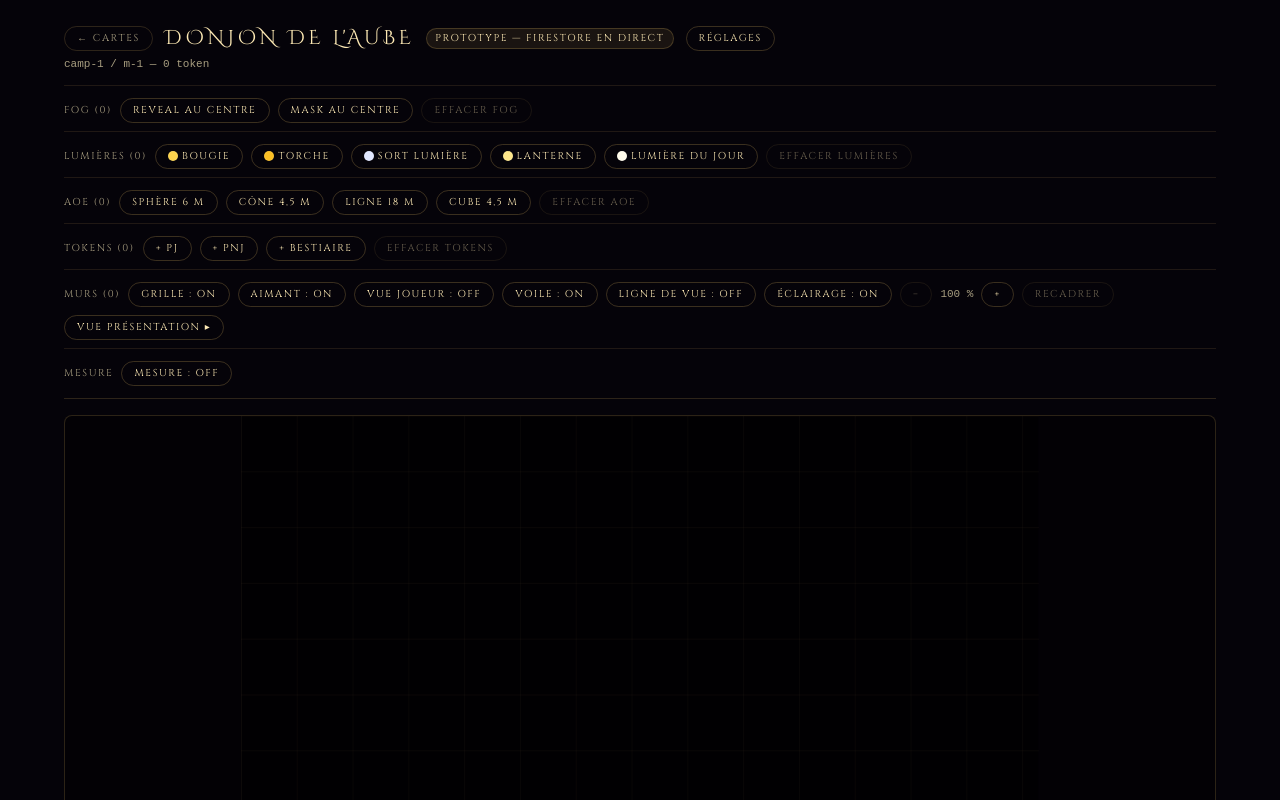
Test: MapLiveScreen › active le mode mesure et révèle le total + le bouton effacer
Click the button with test id "map-live-toggle-measure": (177,373) [121,360,232,386]
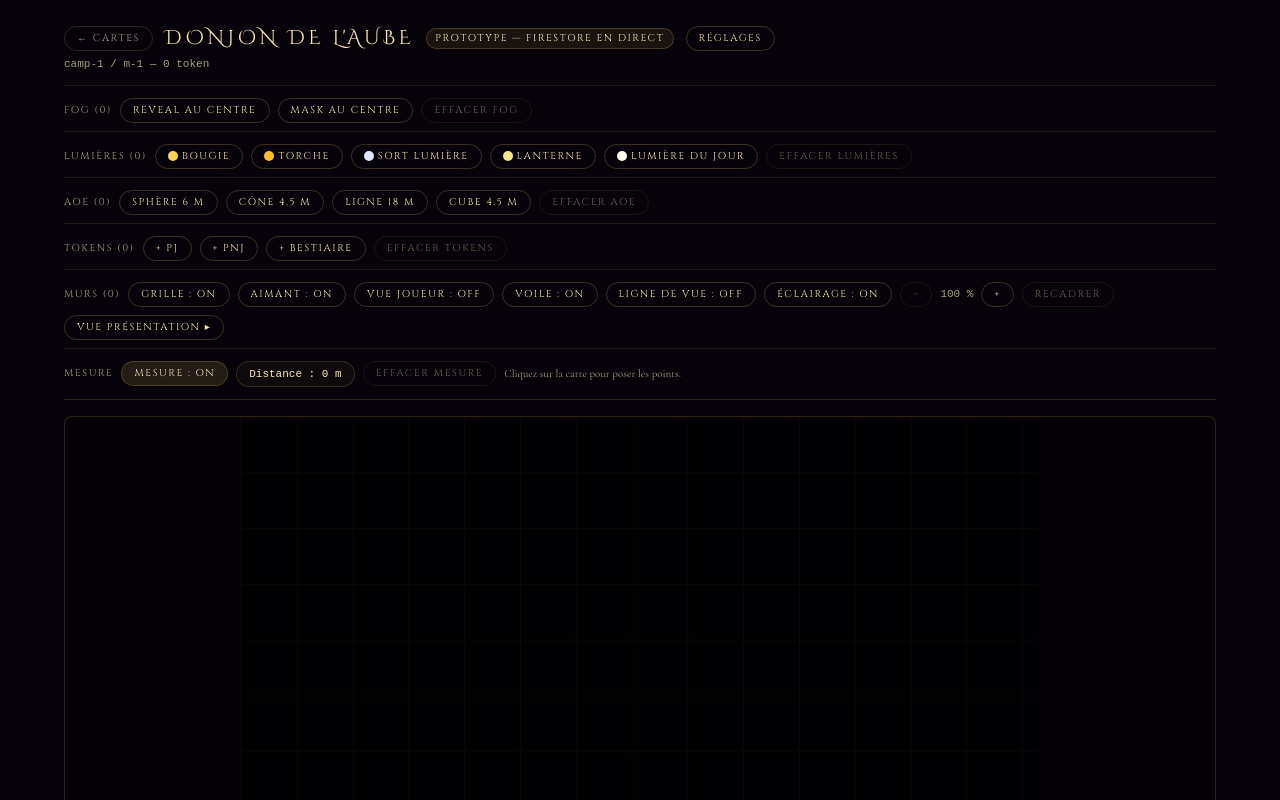
Expected: the button with test id "map-live-toggle-measure" shows "ON", [121,361,228,386]
Expected: the text with test id "map-live-ruler-total" shows "0 m", [322,368,342,380]
Expected: the button with test id "map-live-clear-measure" is disabled, [363,361,496,386]
